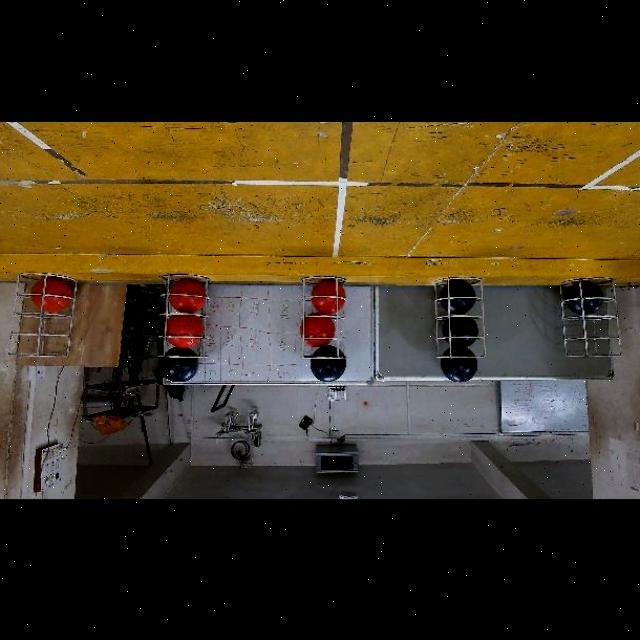P: (564, 280, 605, 316), (310, 344, 346, 382), (438, 346, 476, 382), (162, 347, 200, 382), (440, 279, 476, 314), (441, 317, 478, 348)
R: (30, 276, 74, 313), (163, 314, 202, 348), (299, 313, 336, 348), (169, 279, 205, 313), (311, 279, 345, 314)
S: (7, 271, 79, 357), (556, 276, 624, 358), (427, 275, 487, 359), (156, 272, 210, 358), (299, 276, 351, 360)
